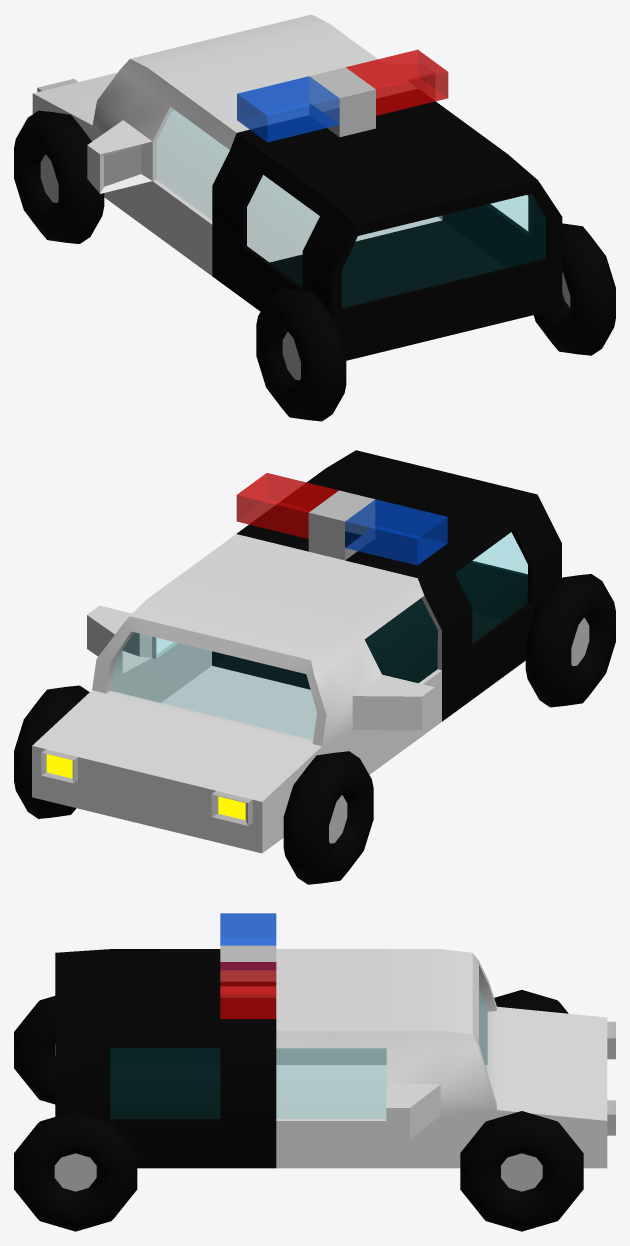
Rendered from PoliceCarPoliceCar.fbx.
3 renders of one model, top to bottom at view 1: azimuth 30°, elevation 25°; view 2: azimuth 150°, elevation 25°; view 3: azimuth 270°, elevation 25°, orthographic. The views are drawn at different scales.
Parts seen in each view (by area): view 1: polySurface3, pTorus6; view 2: polySurface3, pTorus6; view 3: polySurface3, pTorus6.
Part boxes in pixels (x1,y1,x2,y2): polySurface3: (32, 14, 562, 360); pTorus6: (14, 110, 615, 421); polySurface3: (32, 450, 561, 853); pTorus6: (14, 574, 615, 884); polySurface3: (55, 913, 615, 1168); pTorus6: (14, 990, 583, 1231).
Bounding box in the file's own units: 6.59 × 4.4 × 11.13.
